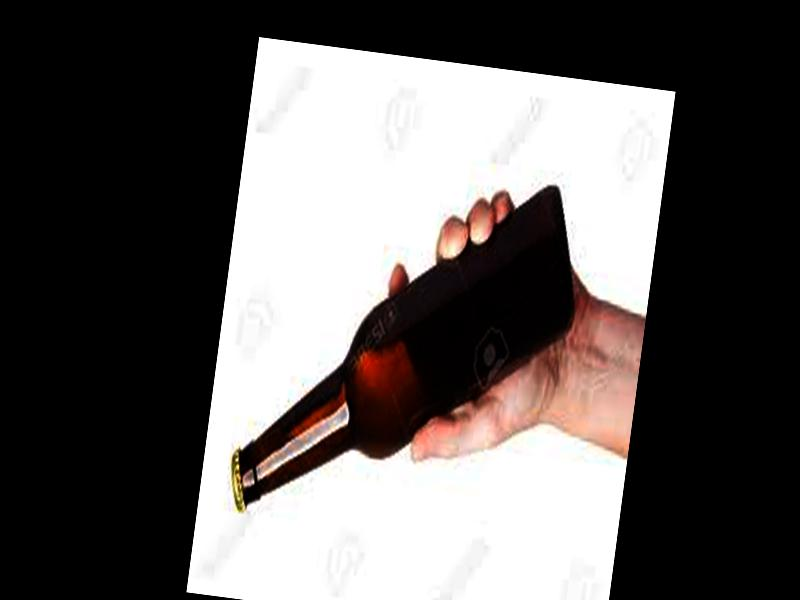Beer: (225, 152, 587, 552)
